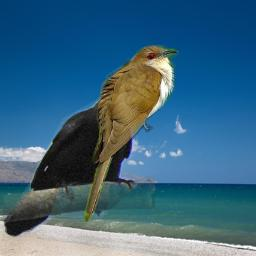Crow: (3, 88, 155, 238)
Cuckoo: (82, 45, 179, 224)
